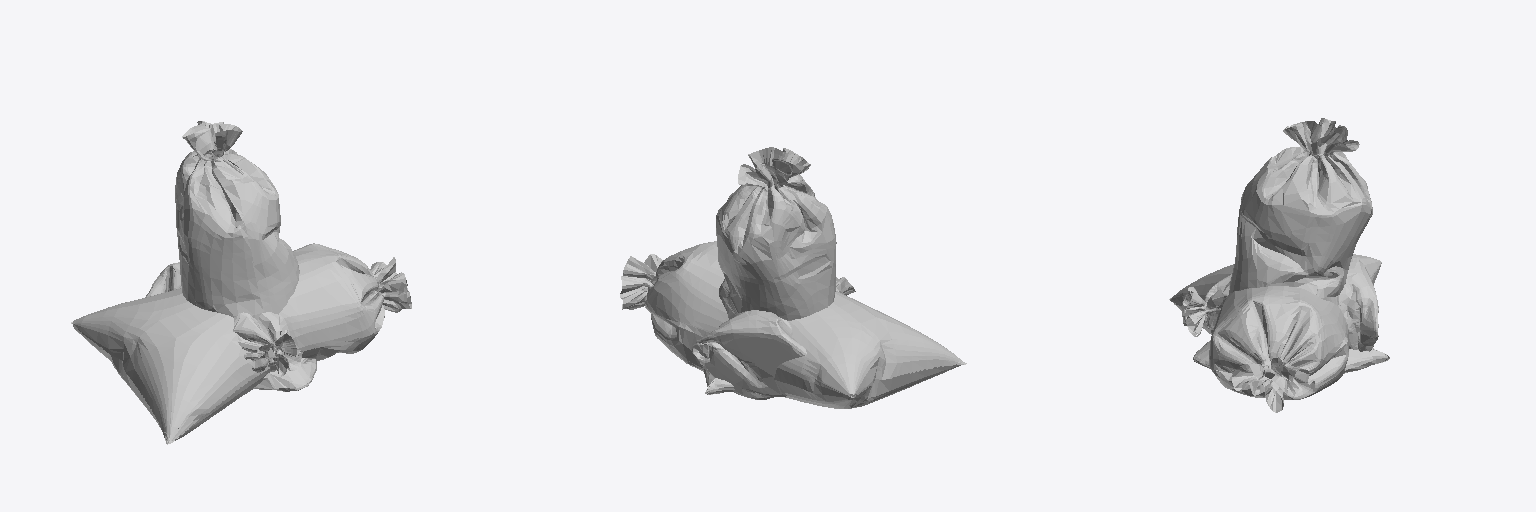
File: uploads_files_4798050_Old_Burlap_Bags_OBJ.obj
The picture shows the model from 3 angles: view 1: azimuth 30°, elevation 25°; view 2: azimuth 150°, elevation 25°; view 3: azimuth 270°, elevation 25°; orthographic projection.
Parts seen in each view (by area): view 1: Old_Burlap_Bag_1, Old_Burlap_Bag_2, Old_Burlap_Bag_3; view 2: Old_Burlap_Bag_1, Old_Burlap_Bag_2, Old_Burlap_Bag_3; view 3: Old_Burlap_Bag_2, Old_Burlap_Bag_1, Old_Burlap_Bag_3.
Boxes of the visible parts, <box> form: Old_Burlap_Bag_1: <box>71,243,411,444</box>; Old_Burlap_Bag_2: <box>175,121,316,391</box>; Old_Burlap_Bag_3: <box>145,262,302,377</box>; Old_Burlap_Bag_1: <box>620,241,966,408</box>; Old_Burlap_Bag_2: <box>704,147,836,394</box>; Old_Burlap_Bag_3: <box>692,277,855,399</box>; Old_Burlap_Bag_2: <box>1193,118,1389,378</box>; Old_Burlap_Bag_1: <box>1169,254,1381,412</box>; Old_Burlap_Bag_3: <box>1182,258,1378,351</box>.
Bounding box in the file's own units: 94.2 × 75.93 × 62.64.